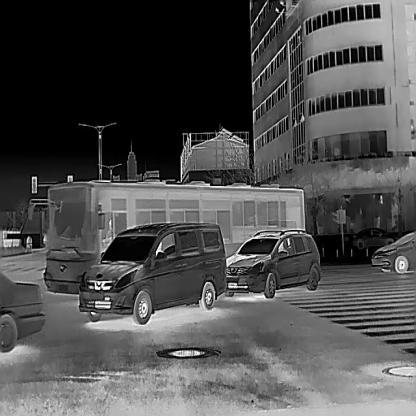car: (27, 177, 305, 294), (78, 221, 227, 323), (226, 227, 321, 297), (0, 270, 45, 352), (371, 230, 416, 274), (352, 227, 398, 249)
